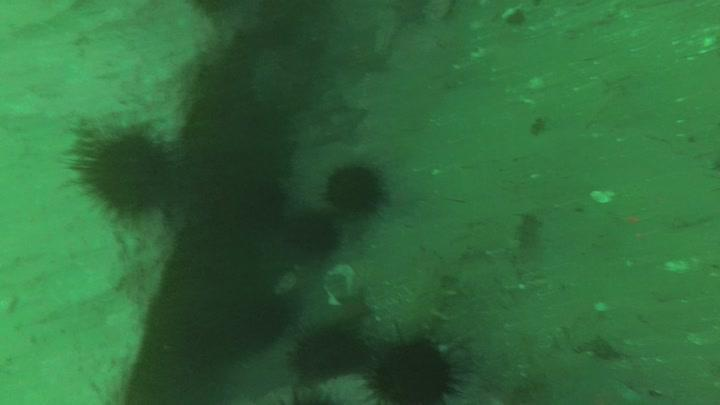urchin: (71, 121, 177, 221), (364, 334, 457, 405), (281, 316, 372, 380), (318, 160, 381, 215), (283, 205, 338, 255)
